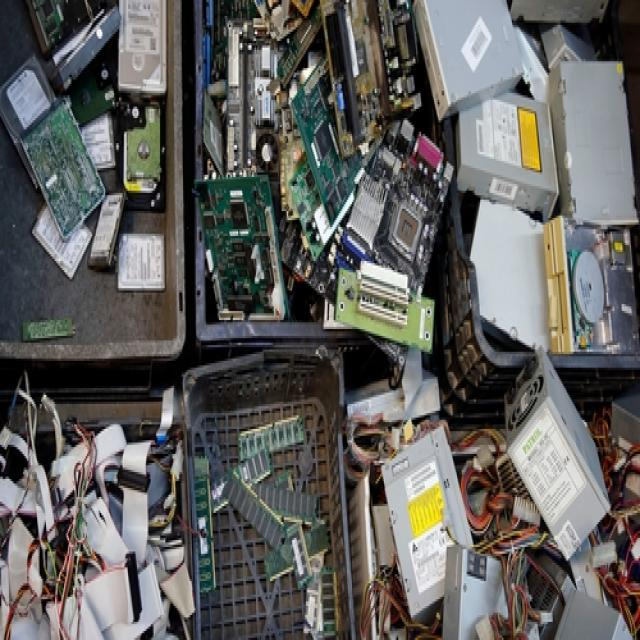heap: (212, 6, 636, 322), (385, 369, 639, 613)
